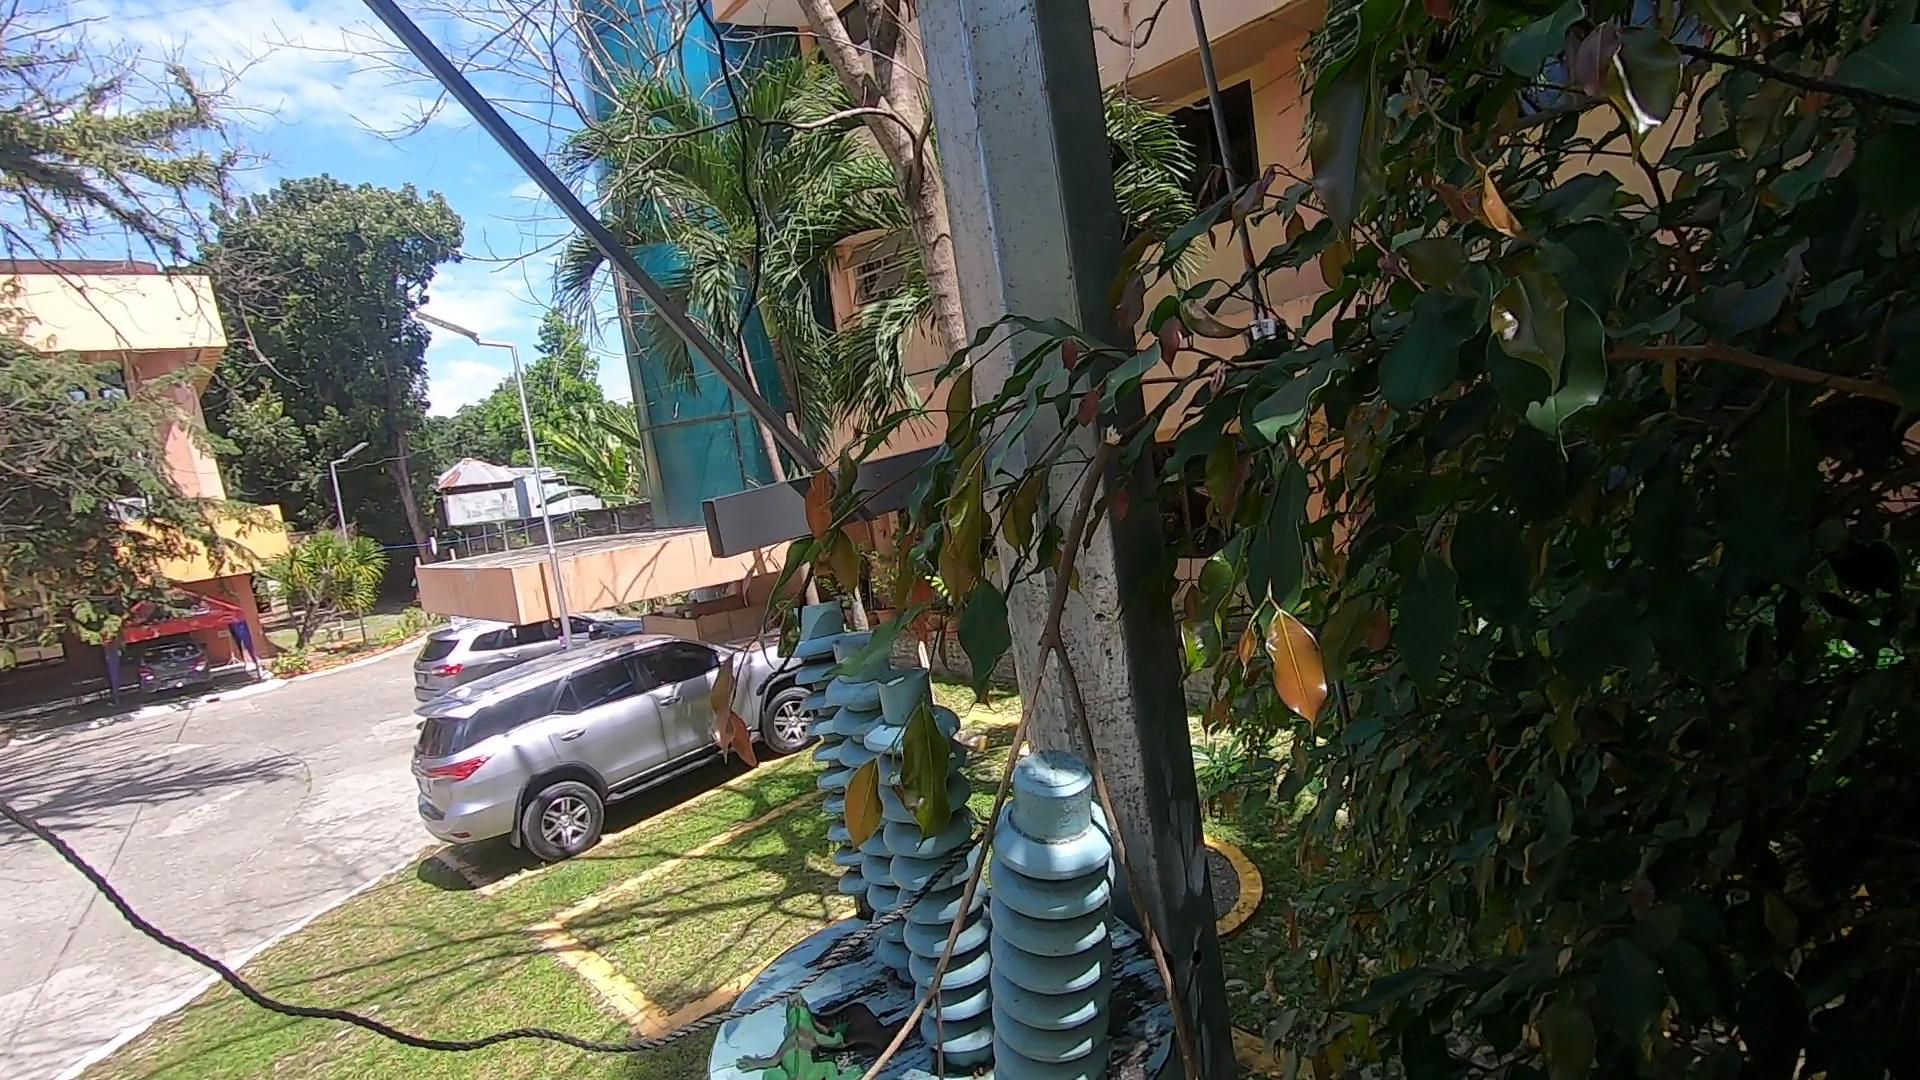leaf: (832, 990, 909, 1069)
tree branch: (829, 415, 1255, 1080)
